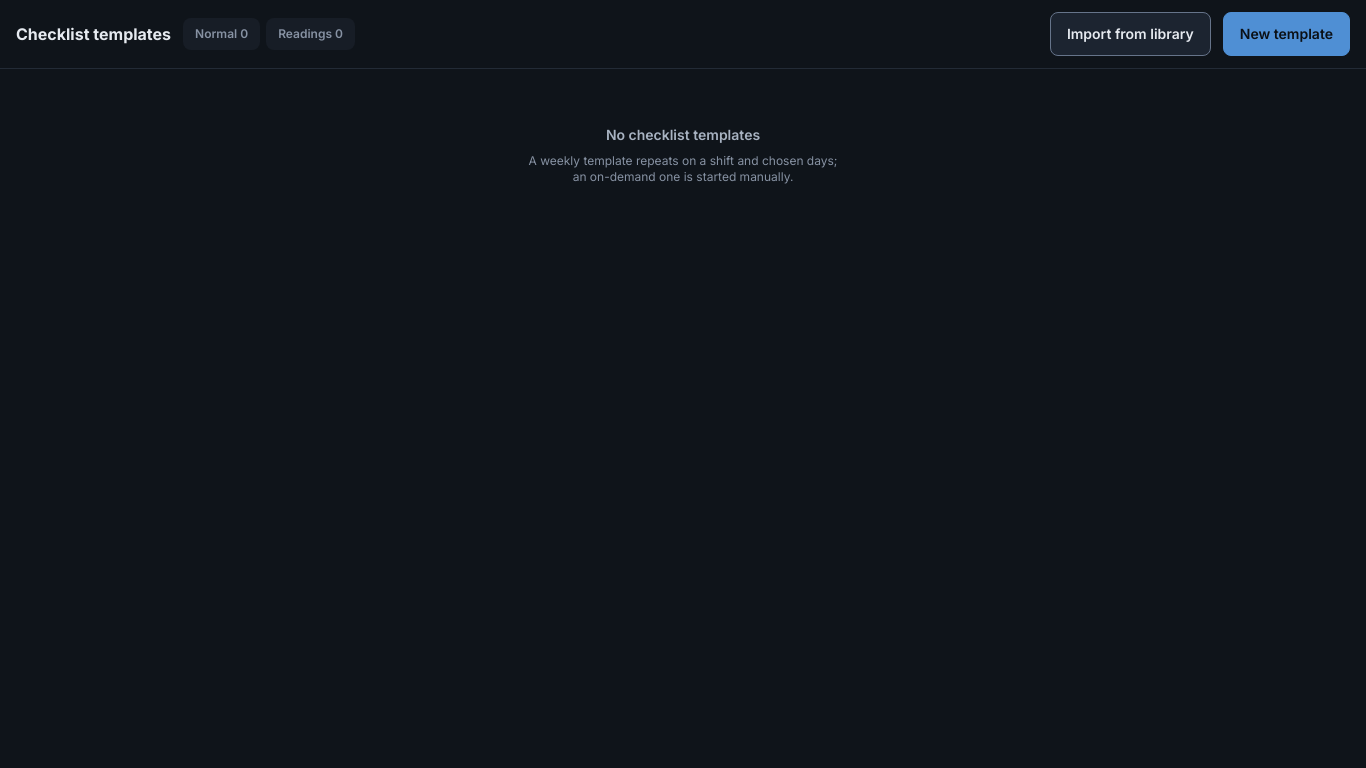
Test case: Import from library › clears the department when the newly chosen entry matches none
What coordinates should you click on to do the following:
click the button "Import from library"
I would click on:
 (1130, 34)
Its box is x1=1050 y1=12 x2=1211 y2=56.
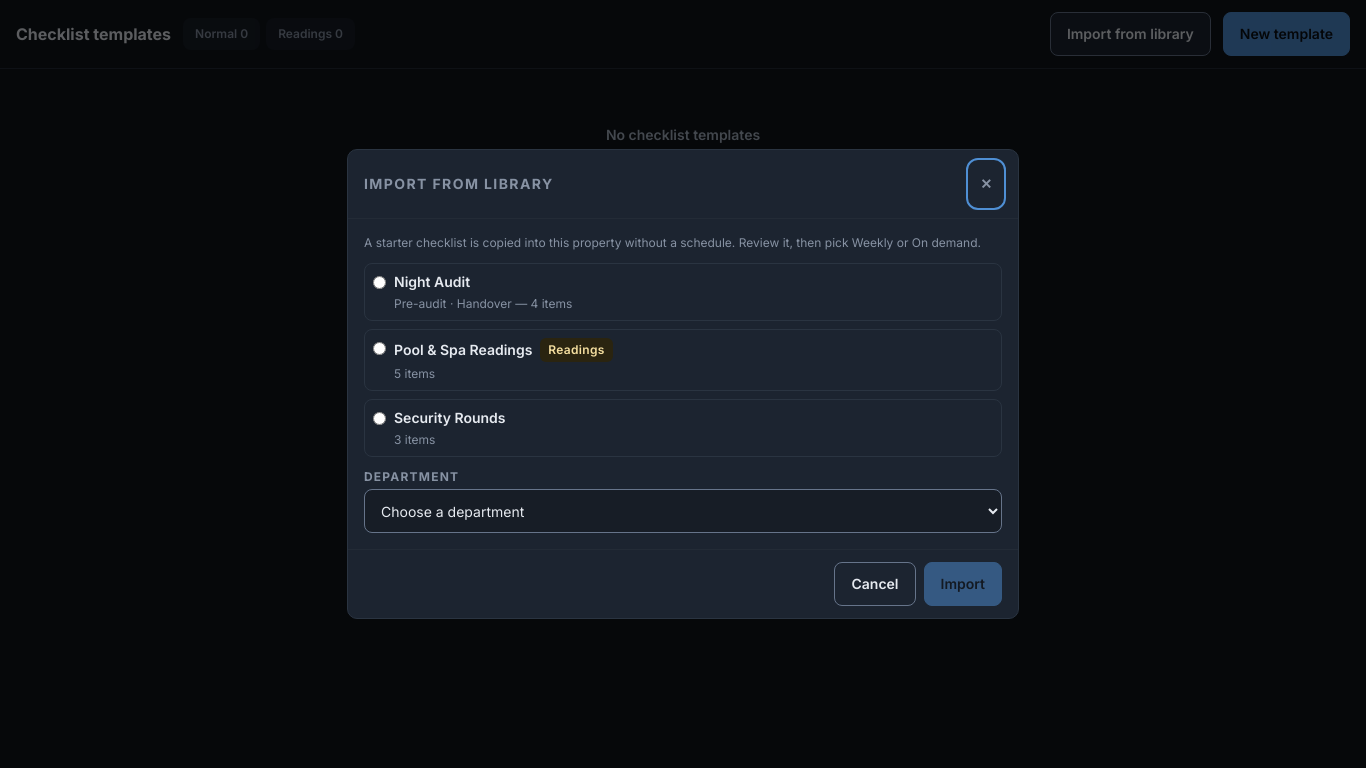
What coordinates should you click on to do the following:
click the radio button labelled "Night Audit Pre-audit · Handover — 4 items"
I would click on:
 (380, 282)
Its box is x1=373 y1=276 x2=386 y2=289.
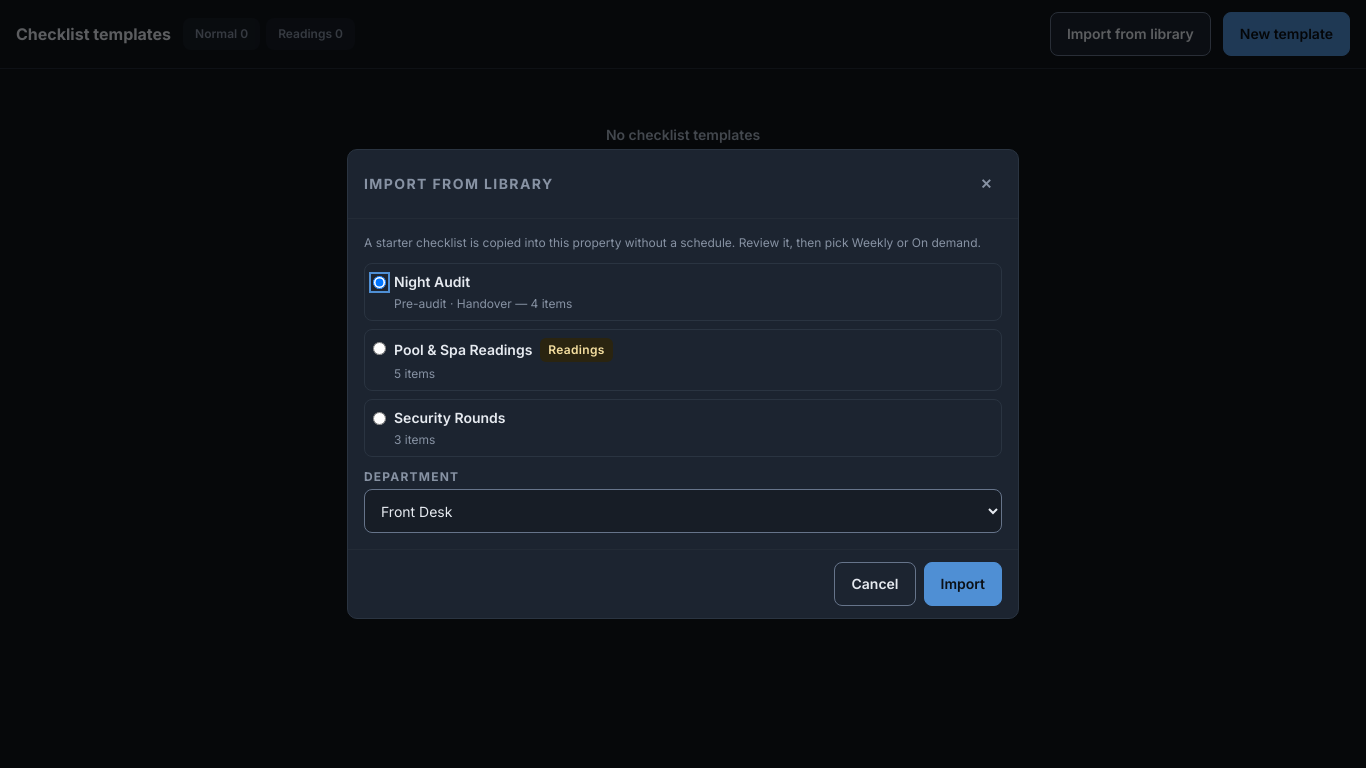
Now the dropdown labelled "Department" shows "Front Desk", box x1=364 y1=489 x2=1002 y2=533
What coordinates should you click on to do the following:
click the radio button labelled "Security Rounds 3 items"
I would click on:
 (380, 418)
Its box is x1=373 y1=412 x2=386 y2=425.
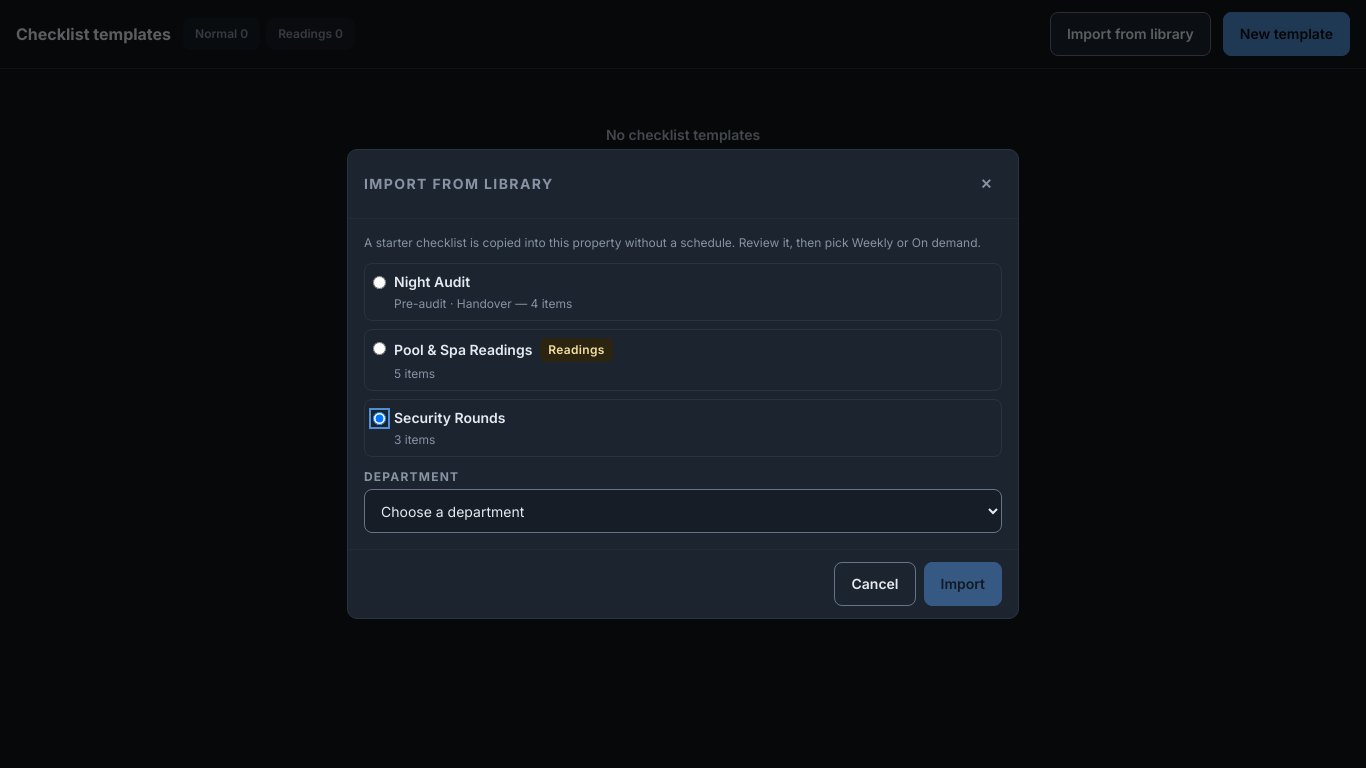
Now the dropdown labelled "Department" shows "Choose a department", box x1=364 y1=489 x2=1002 y2=533
Now the button "Import" is disabled, box x1=924 y1=562 x2=1002 y2=606
